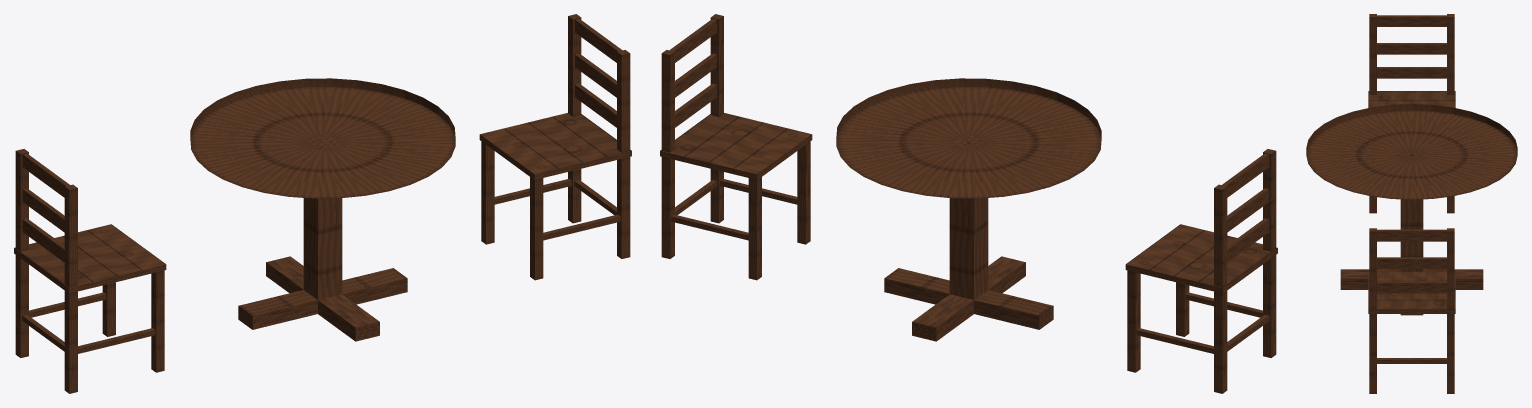
File: dining_small.obj
3 renders of one model, left to right at view 1: azimuth 30°, elevation 25°; view 2: azimuth 150°, elevation 25°; view 3: azimuth 270°, elevation 25°, orthographic. The views are drawn at different scales.
Visible parts, largest first — view 1: material_5; view 2: material_5; view 3: material_5.
Part boxes in pixels (x1,y1,x2,y2): material_5: (14, 14, 631, 393); material_5: (660, 14, 1277, 393); material_5: (1306, 14, 1517, 393).
Size of the model in its own units: 81.36 by 28.16 by 33.28.
Materials: 1 (1 with a texture image).
